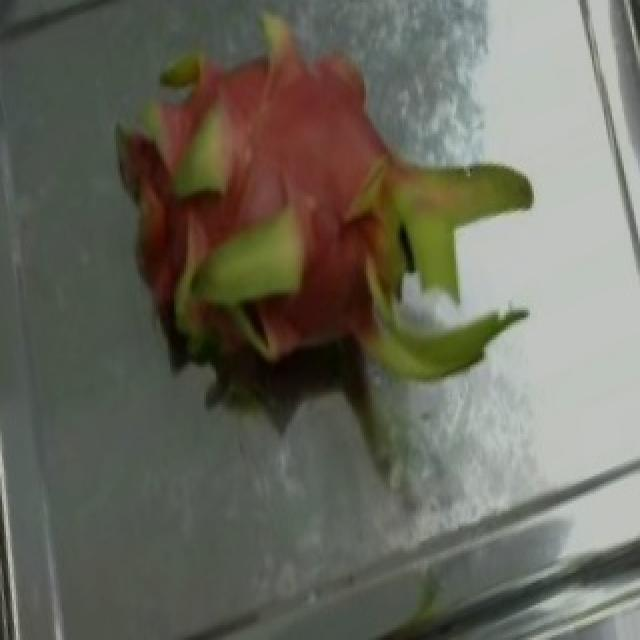fruit: (136, 5, 562, 469)
